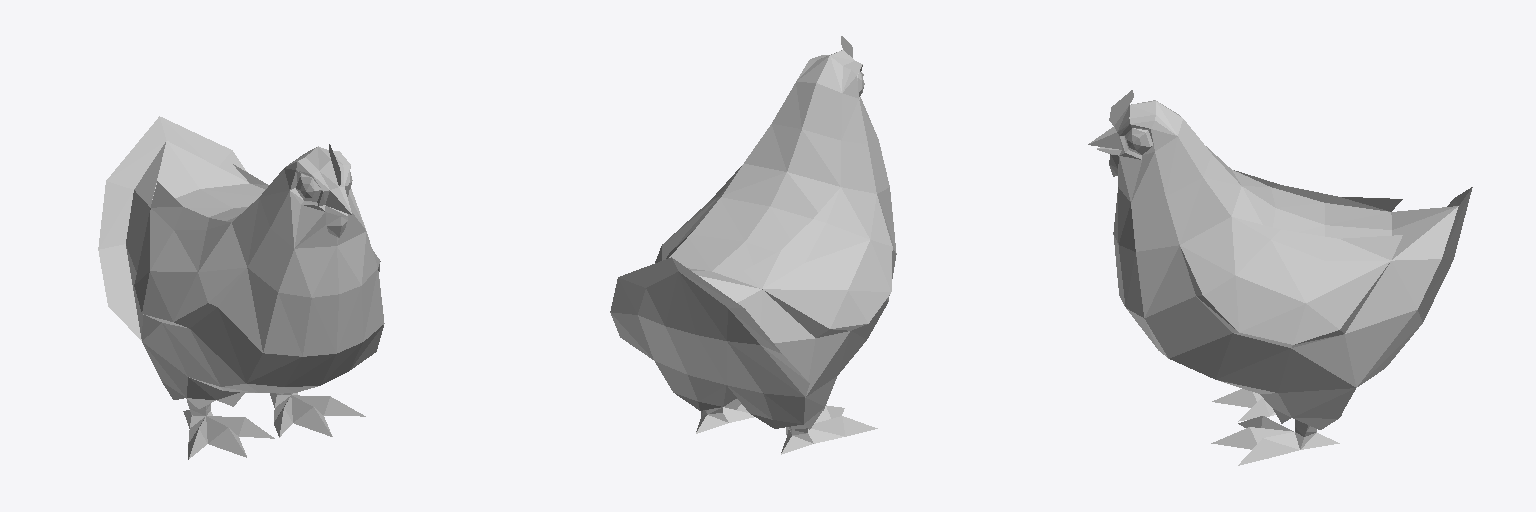
The model's file is Chicken.obj.
3 renders of one model, left to right at view 1: azimuth 30°, elevation 25°; view 2: azimuth 150°, elevation 25°; view 3: azimuth 270°, elevation 25°, orthographic.
Visible parts, largest first — view 1: Mesh0; view 2: Mesh0; view 3: Mesh0.
Part boxes in pixels (bbox=[...]): Mesh0: bbox=[98, 116, 384, 459]; Mesh0: bbox=[610, 36, 896, 454]; Mesh0: bbox=[1088, 90, 1472, 465].
Bounding box in the file's own units: 1.12 × 1.66 × 1.74.